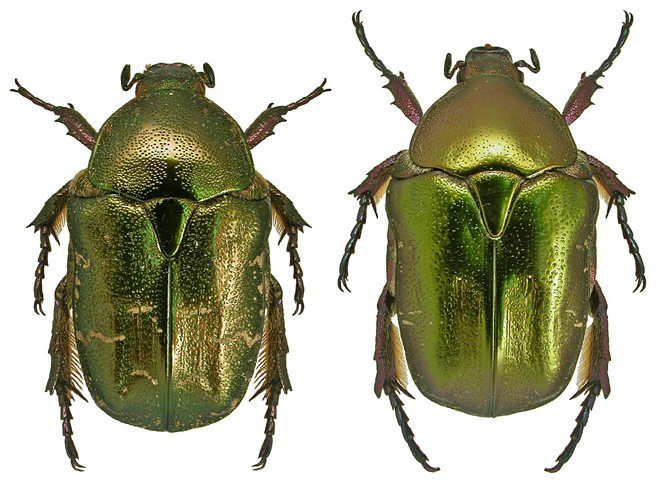Protaetia_metallica: (334, 6, 646, 479), (2, 46, 333, 471)
